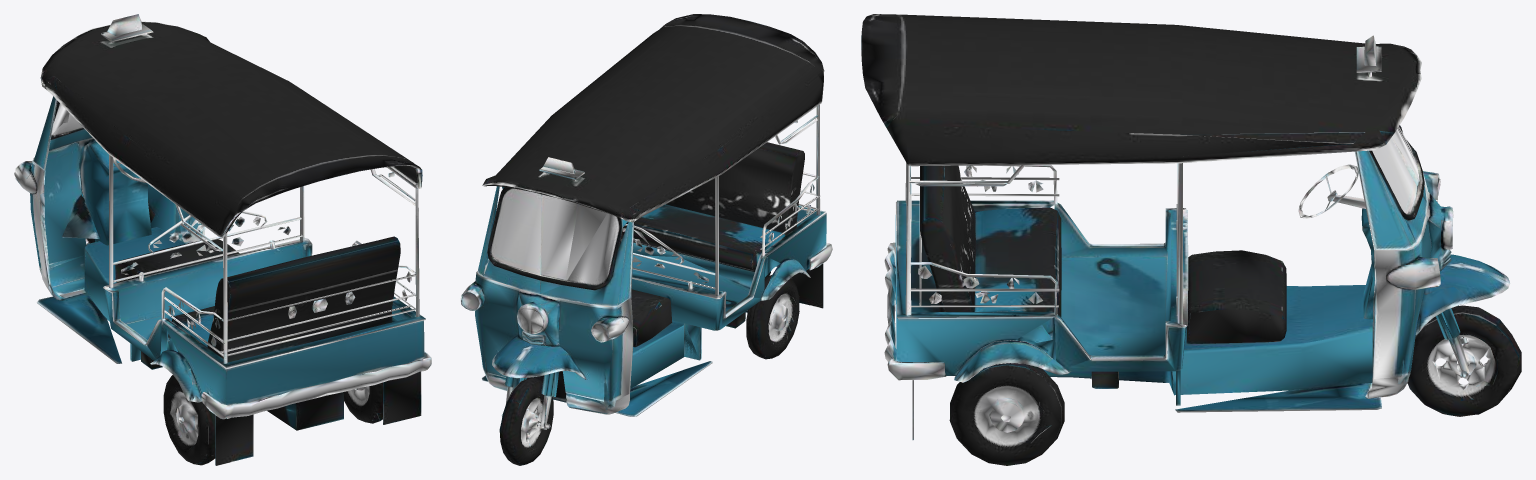
The model's file is tuktuk.glb.
The picture shows the model from 3 angles, left to right: view 1: azimuth 30°, elevation 25°; view 2: azimuth 150°, elevation 25°; view 3: azimuth 270°, elevation 25°; orthographic projection. The views are drawn at different scales.
Parts seen in each view (by area): view 1: Prop_tuktuk; view 2: Prop_tuktuk; view 3: Prop_tuktuk.
Boxes of the visible parts, x1,y1,x2,y2 form: Prop_tuktuk: [14, 14, 431, 465]; Prop_tuktuk: [460, 14, 832, 465]; Prop_tuktuk: [861, 14, 1521, 465].
Size of the model in its own units: 1.34 by 1.81 by 2.9.
1 material, 1 textured.
